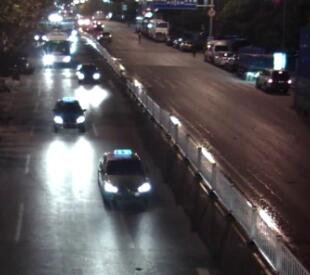bus: (39, 28, 72, 69), (142, 16, 170, 39)
car: (96, 145, 155, 207), (49, 95, 87, 135), (255, 65, 293, 95), (73, 58, 102, 85), (215, 50, 240, 70), (206, 41, 230, 61), (31, 28, 50, 42)
